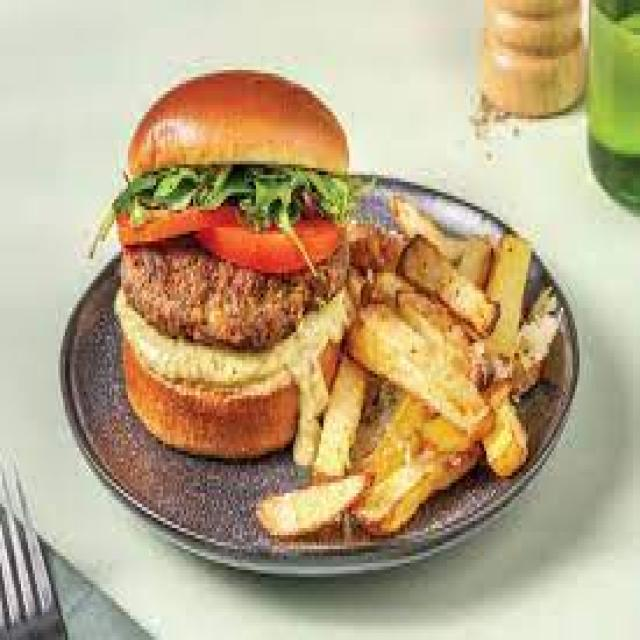감자튀김: (351, 194, 549, 541)
햄버거: (126, 58, 348, 451)
